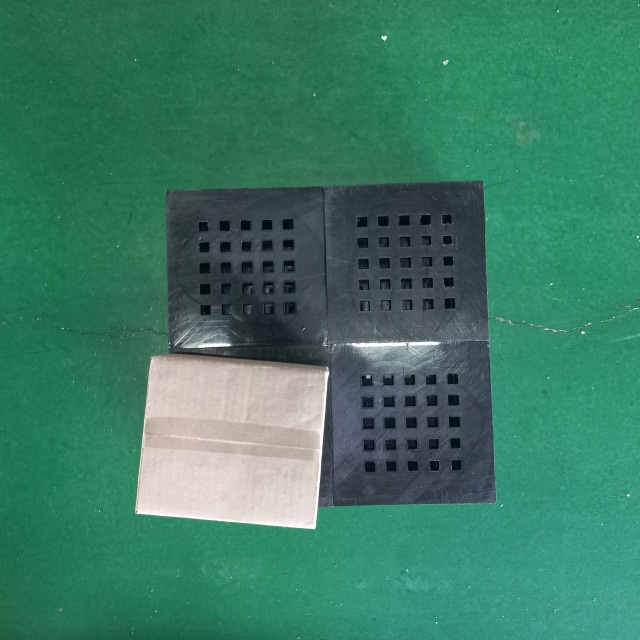box: (133, 350, 329, 531)
pallet: (155, 179, 489, 519)
